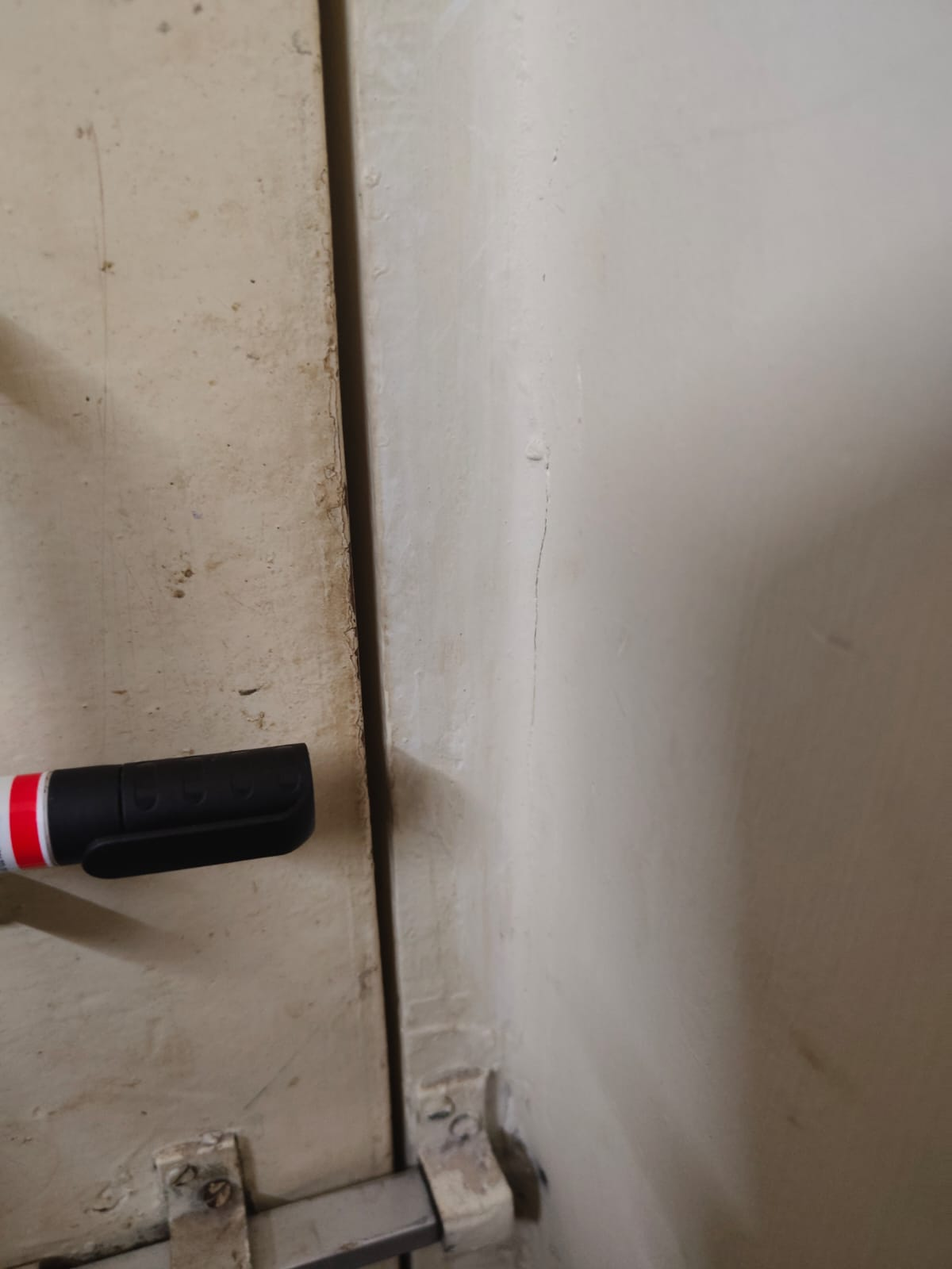case: (14, 736, 366, 886)
